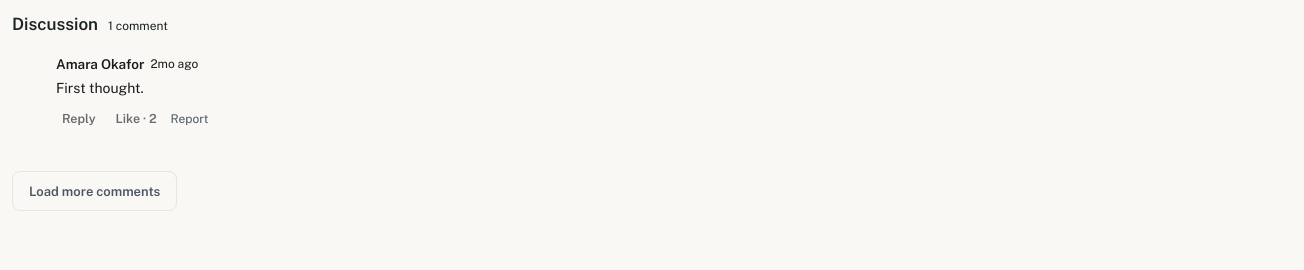
Scenario: CommentThread › appends the next page and hides the control when exhausted
Click the button "Load more comments": x=95, y=191 top-left (12, 171), bottom-right (177, 211)
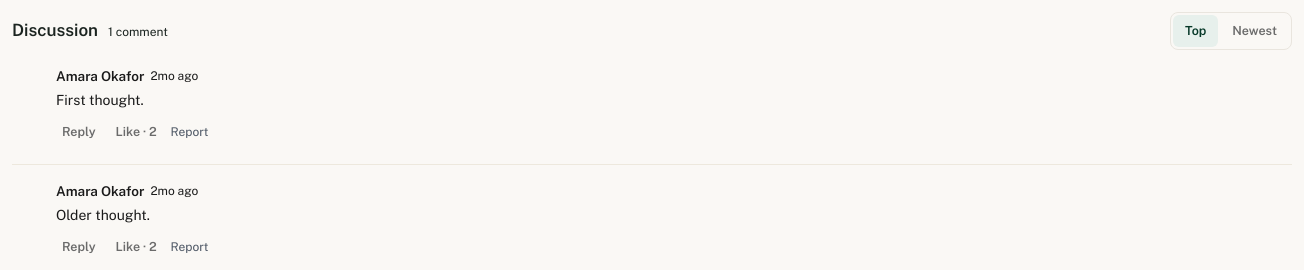
Expected: the text "Older thought." is shown, top-left (56, 207), bottom-right (150, 223)
Expected: the button "Load more comments" is gone
